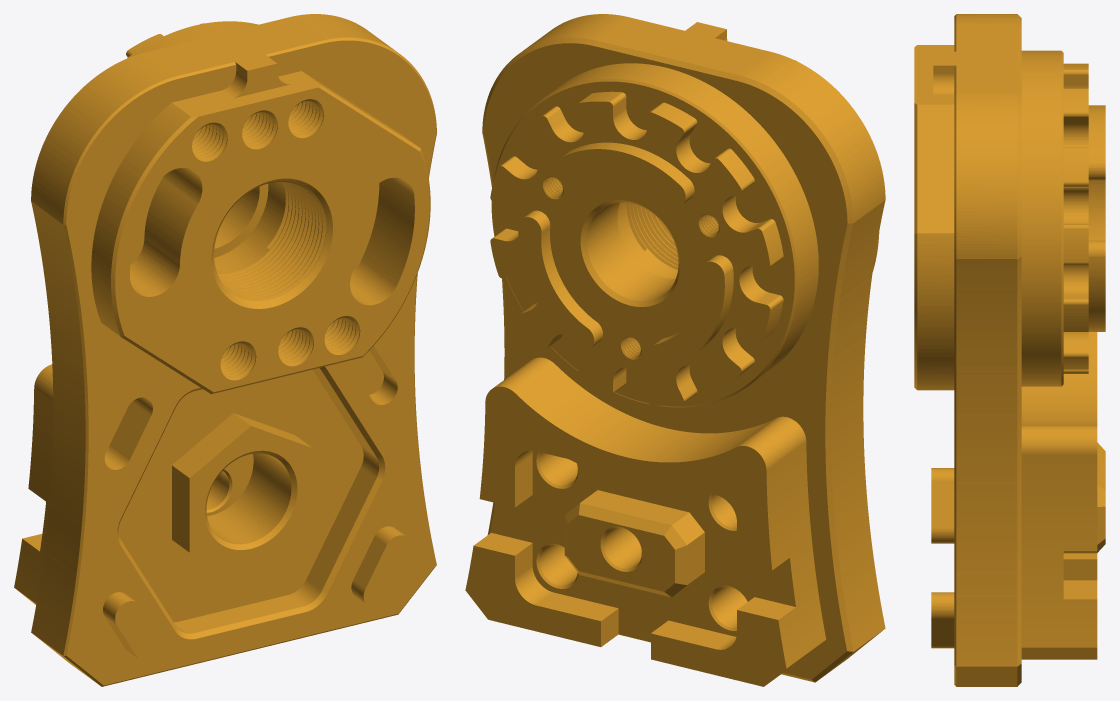
3 views of the same model, side by side, from view 1: azimuth 30°, elevation 25°; view 2: azimuth 150°, elevation 25°; view 3: azimuth 270°, elevation 25° (orthographic). The views are drawn at different scales.
Size of the model in its own units: 97 by 147 by 45.5.
